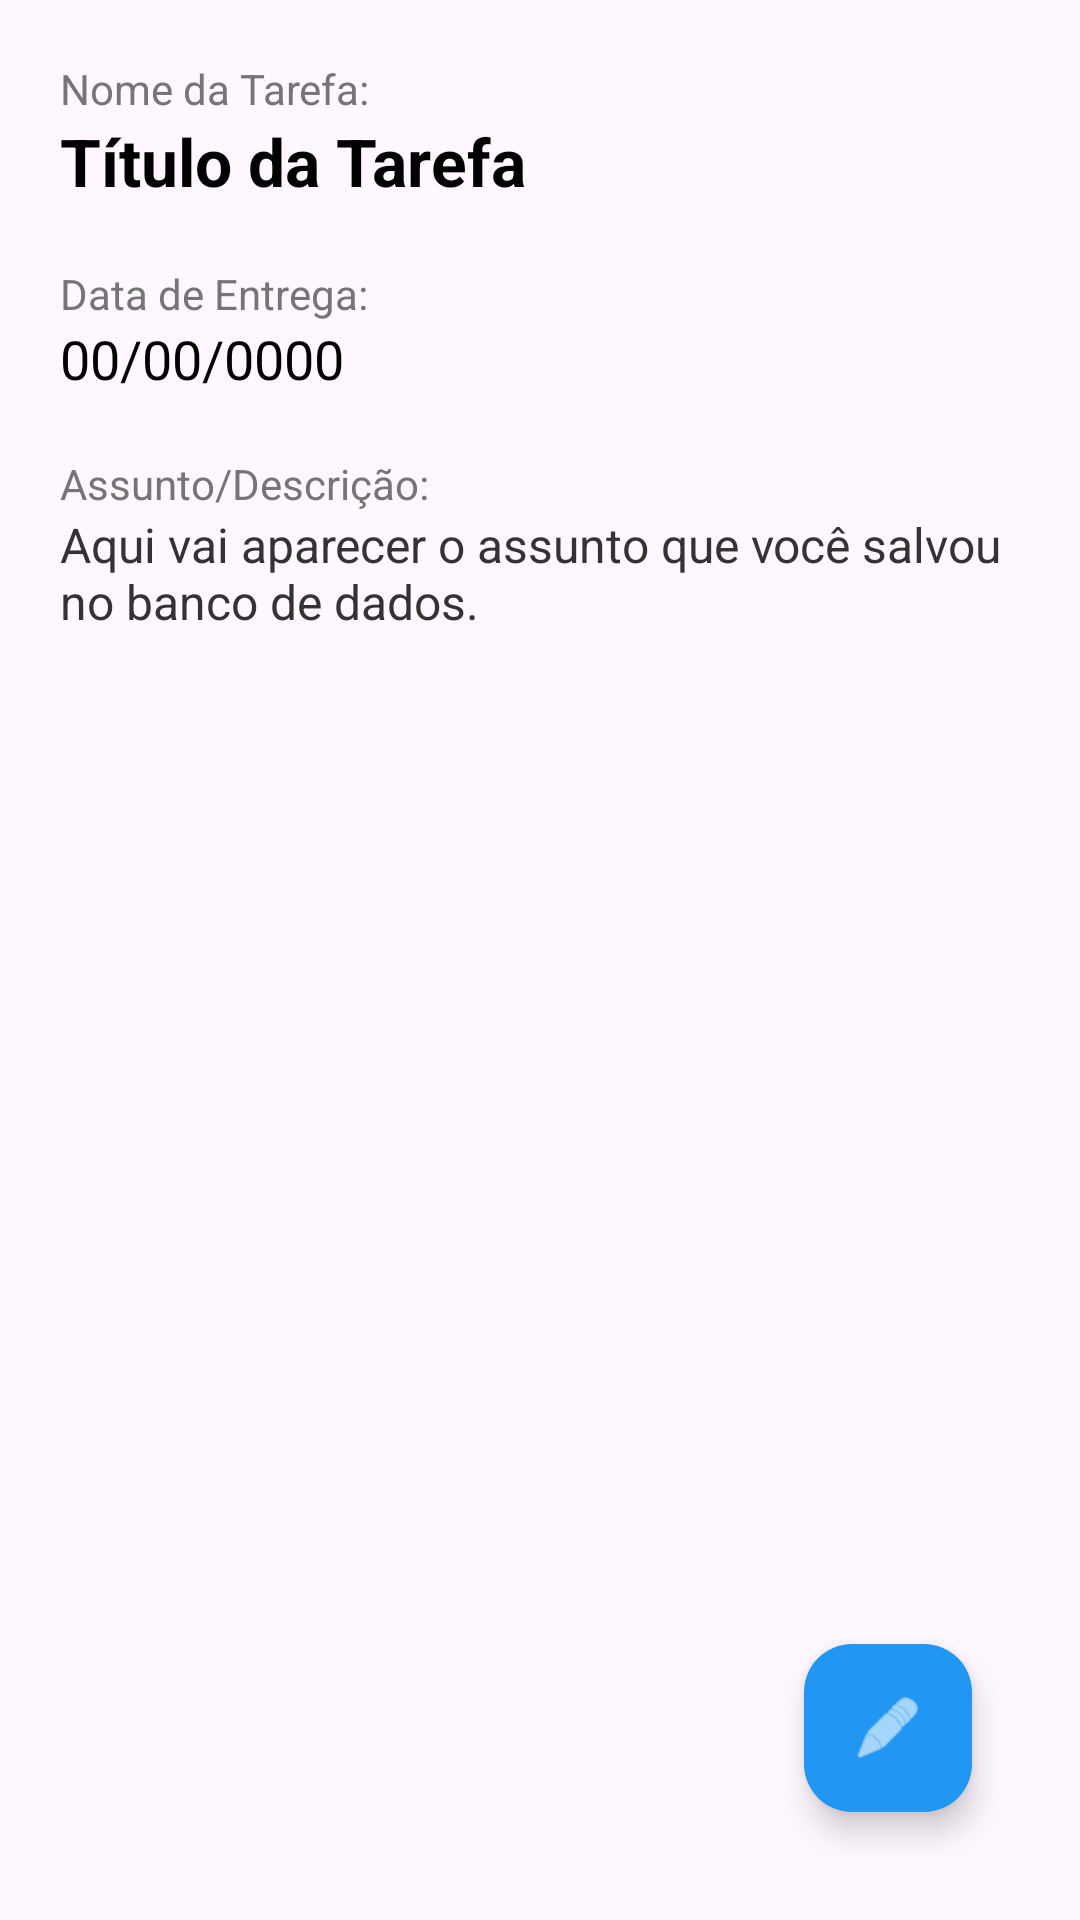

Screen size 1080×1920. Icon name, then its box in pixels as (x1, y1, x2, y2):
Editar Tarefa: (804, 1644, 972, 1812)
